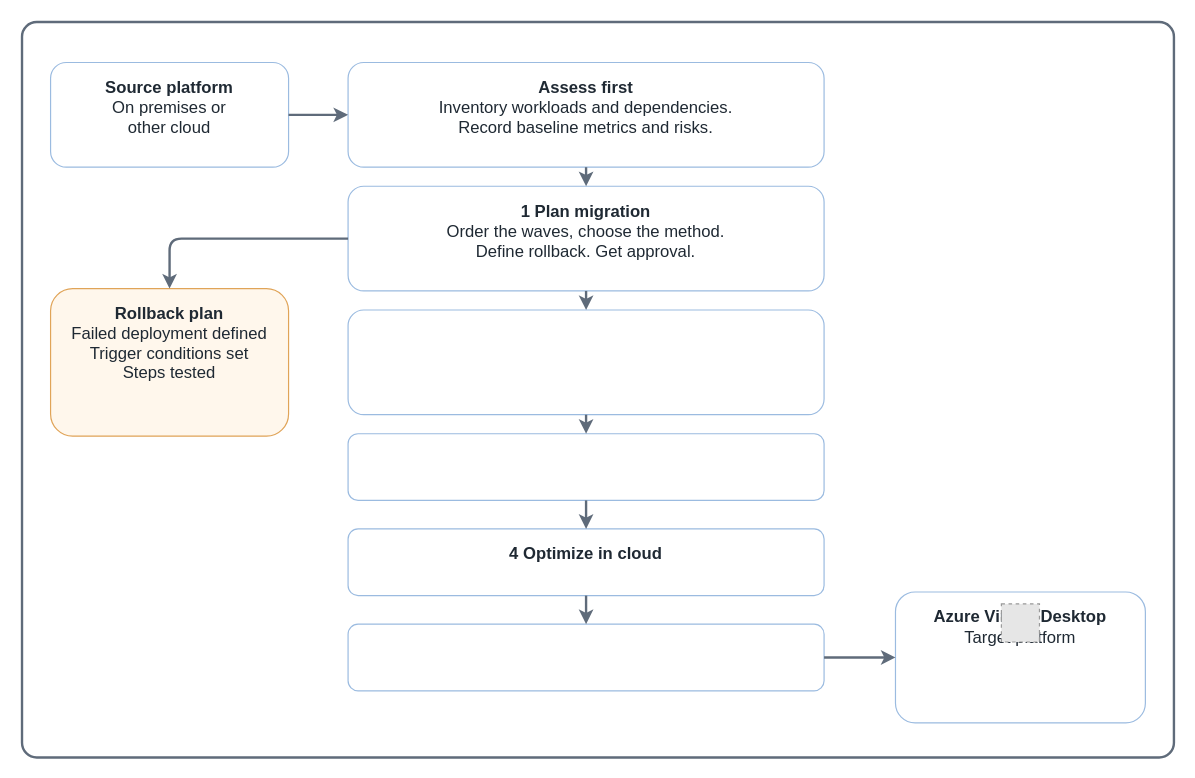
Image size: 1195x778. Some labels were removed from this diagram. Grey dashed boxes stand in for pictures. Here are the shapes that lost their labels. From the top down, the box of each, then its label:
(347, 309, 824, 415): 2 Prepare workloads Fix blockers from the assessment.
(347, 433, 824, 500): 3 Execute migration
(347, 623, 824, 691): 5 Decommission source
